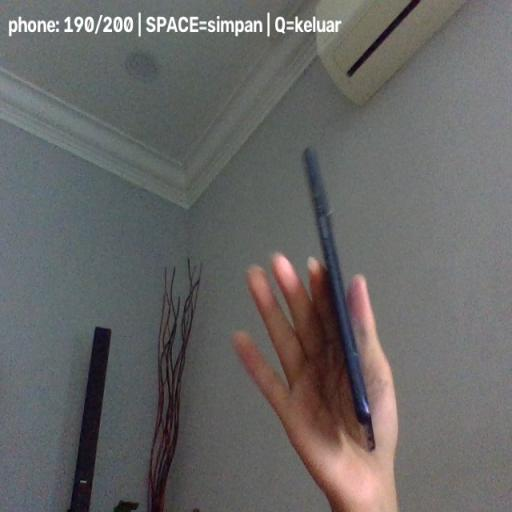Phone: (303, 147, 376, 451)
